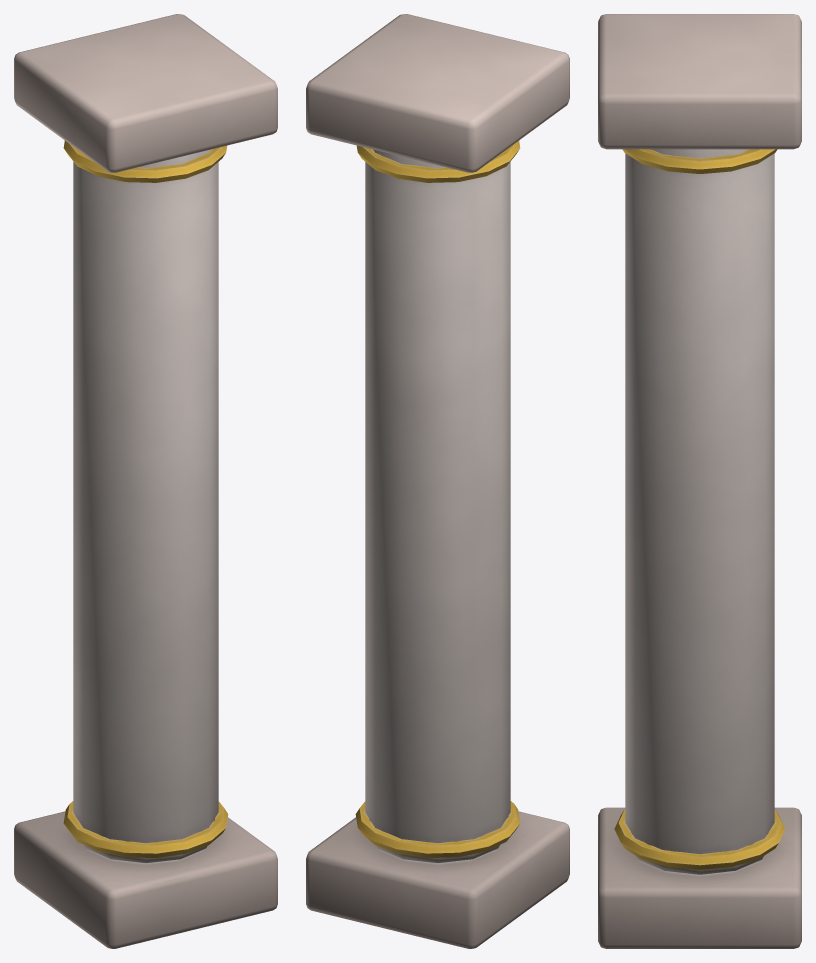
File: hs_marble_pillar.glb
3 views of the same model, side by side, from view 1: azimuth 30°, elevation 25°; view 2: azimuth 150°, elevation 25°; view 3: azimuth 270°, elevation 25° (orthographic). The views are drawn at different scales.
Visible parts, largest first — view 1: hs_marble_pillar; view 2: hs_marble_pillar; view 3: hs_marble_pillar.
Part boxes in pixels (x1,y1,x2,y2): hs_marble_pillar: (14, 14, 277, 948); hs_marble_pillar: (306, 14, 569, 948); hs_marble_pillar: (598, 14, 801, 948).
Bounding box in the file's own units: 1.5 × 6.94 × 1.5.
3 materials, 3 textured.
